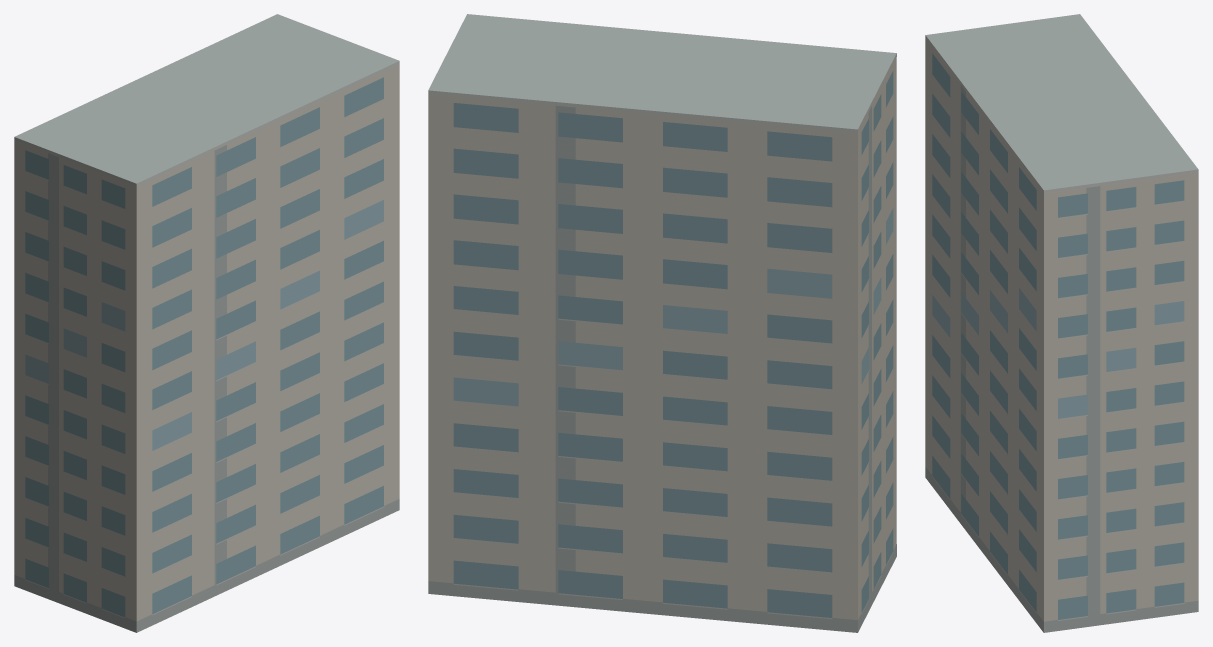
The model's file is residential-27c3300b-df24-4b70-91ef-5d7d61658a77.glb.
3 renders of one model, left to right at view 1: azimuth 30°, elevation 25°; view 2: azimuth 150°, elevation 25°; view 3: azimuth 270°, elevation 25°, orthographic. The views are drawn at different scales.
Parts seen in each view (by area): view 1: residential-27c3300b-df24-4b70-91ef-5d7d61658a77.tmp; view 2: residential-27c3300b-df24-4b70-91ef-5d7d61658a77.tmp; view 3: residential-27c3300b-df24-4b70-91ef-5d7d61658a77.tmp.
Part boxes in pixels (left/top/right/bottom): residential-27c3300b-df24-4b70-91ef-5d7d61658a77.tmp: left=14, top=14, right=399, bottom=632; residential-27c3300b-df24-4b70-91ef-5d7d61658a77.tmp: left=428, top=14, right=896, bottom=632; residential-27c3300b-df24-4b70-91ef-5d7d61658a77.tmp: left=925, top=14, right=1198, bottom=632.
Bounding box in the file's own units: 28.23 × 33 × 18.47.
